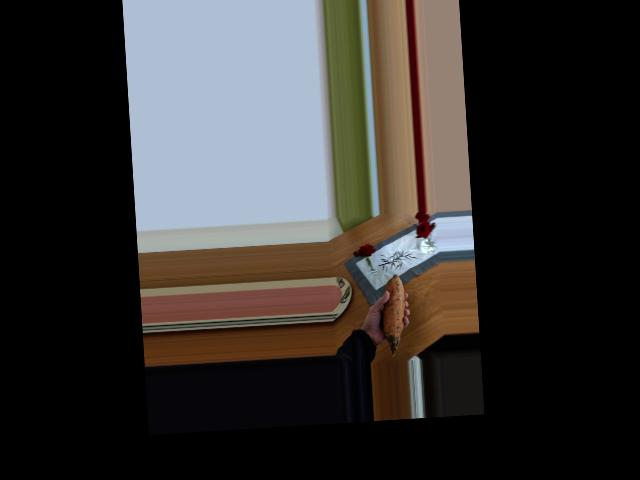sweet_potato: (372, 271, 411, 350)
